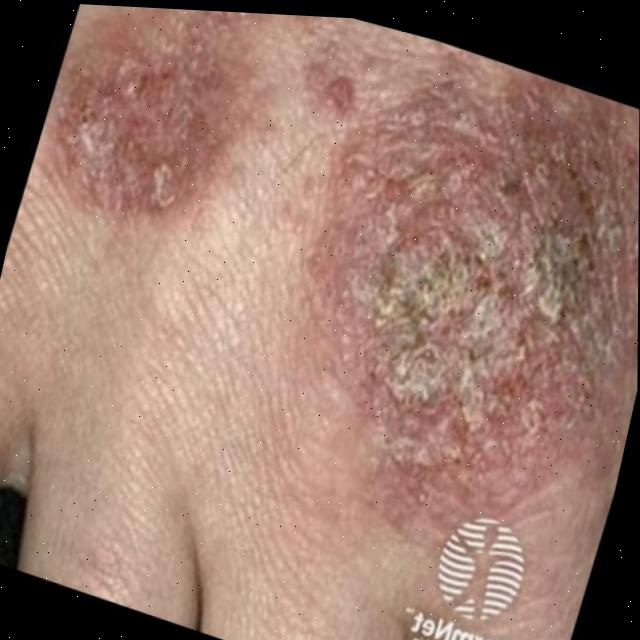Eczema: (339, 132, 593, 470), (77, 24, 251, 225)
